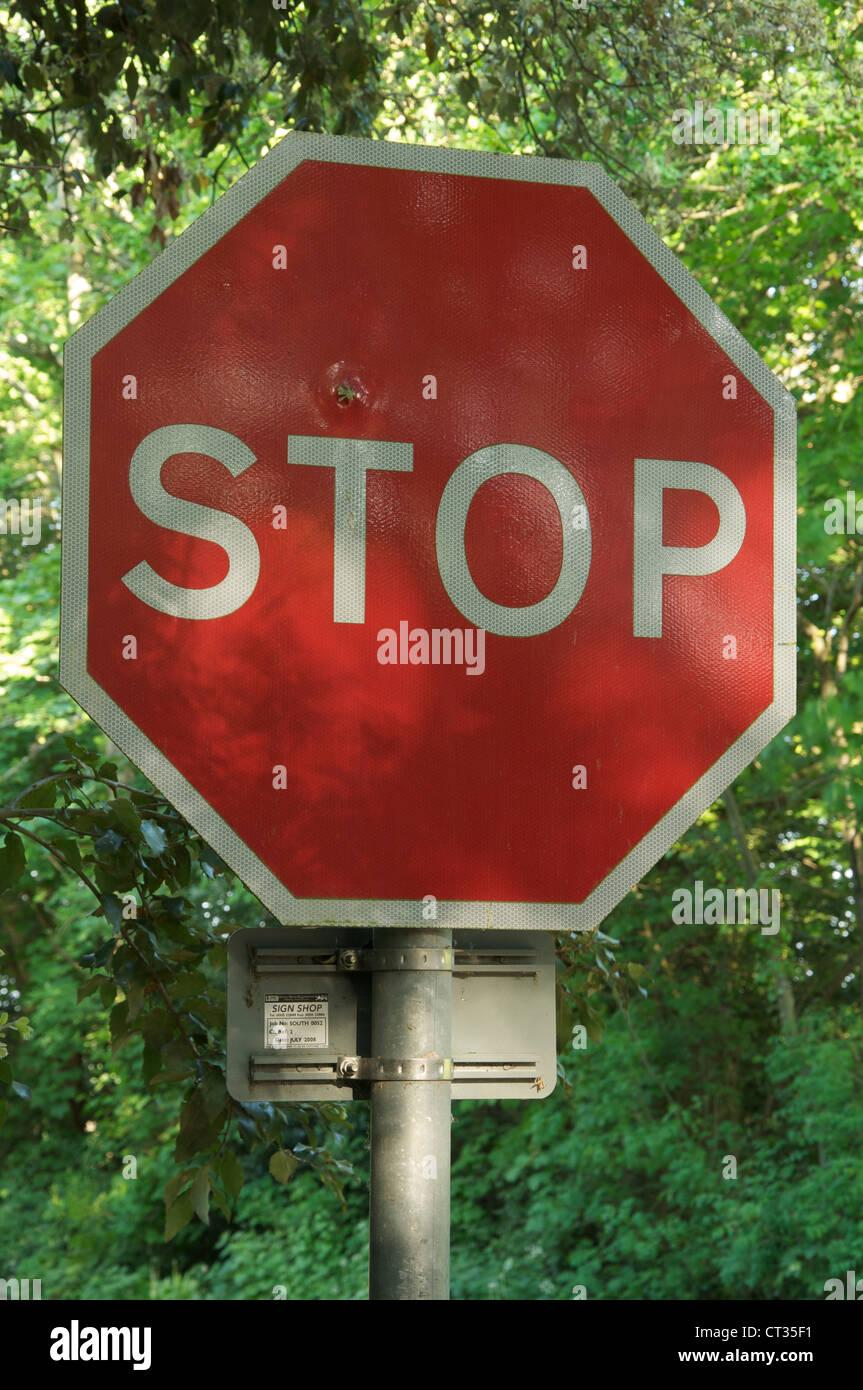stop-sign: (55, 127, 795, 920)
